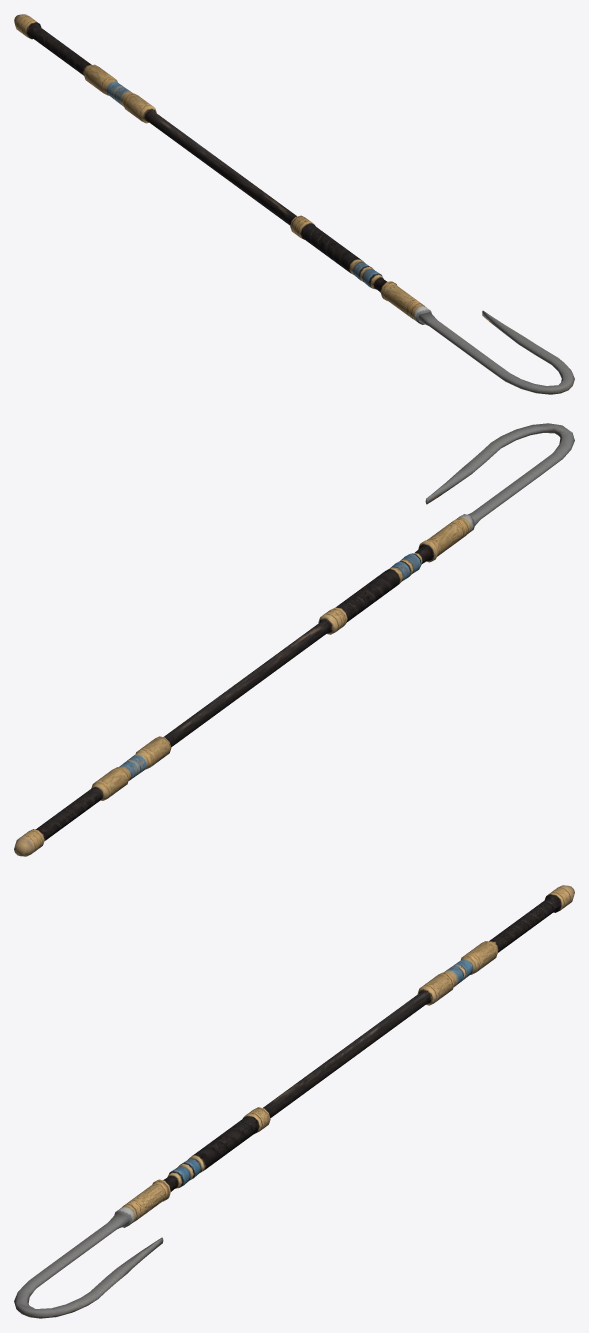
Rendered from mm6_jak1_staff.glb.
3 renders of one model, top to bottom at view 1: azimuth 30°, elevation 25°; view 2: azimuth 150°, elevation 25°; view 3: azimuth 330°, elevation 25°, orthographic. The views are drawn at different scales.
Visible parts, largest first — view 1: Staff; view 2: Staff; view 3: Staff.
Part boxes in pixels (x1,y1,x2,y2): Staff: [14, 14, 574, 394]; Staff: [14, 423, 574, 856]; Staff: [14, 885, 574, 1318].
Size of the model in its own units: 0.1401 by 0.037 by 1.89.
Materials: 1 (1 with a texture image).
